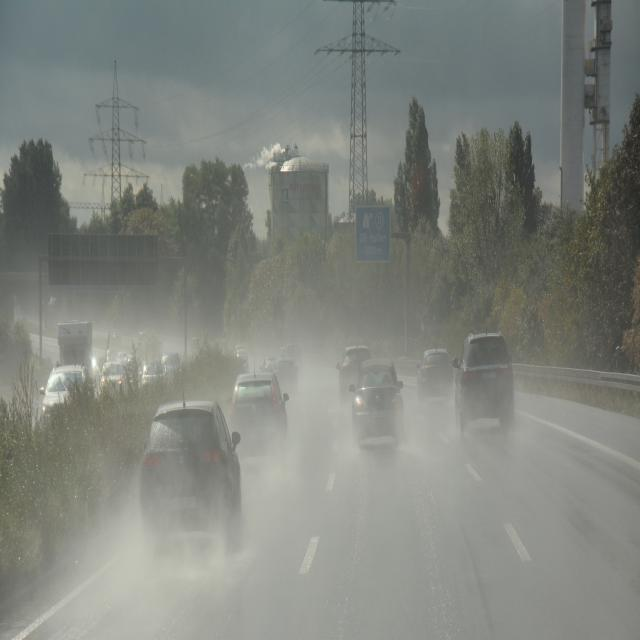car: (138, 399, 243, 549), (455, 332, 514, 438), (348, 360, 405, 446), (231, 373, 286, 452), (40, 365, 90, 420), (56, 320, 86, 392), (418, 349, 452, 396), (273, 356, 299, 406), (336, 346, 372, 382), (100, 362, 132, 401), (141, 358, 165, 386), (284, 344, 304, 372), (160, 352, 180, 373), (260, 356, 276, 376), (236, 350, 249, 367)
